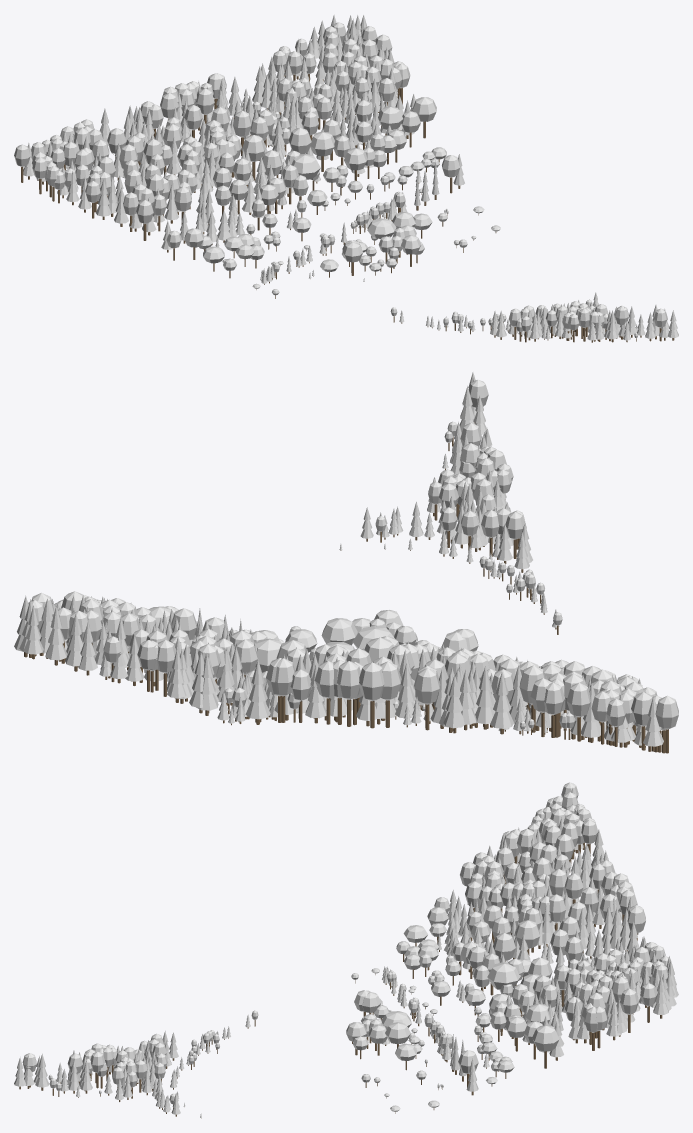
The model's file is stromy.glb.
3 renders of one model, top to bottom at view 1: azimuth 30°, elevation 25°; view 2: azimuth 150°, elevation 25°; view 3: azimuth 270°, elevation 25°, orthographic. The views are drawn at different scales.
Visible parts, largest first — view 1: Stromy_Listnate_08_01, Stromy_Ihlicnate_08_01; view 2: Stromy_Listnate_08_01, Stromy_Ihlicnate_08_01; view 3: Stromy_Listnate_08_01, Stromy_Ihlicnate_08_01.
Part boxes in pixels (<box>): Stromy_Listnate_08_01: <box>14,22,667,342</box>; Stromy_Ihlicnate_08_01: <box>23,14,678,342</box>; Stromy_Listnate_08_01: <box>28,379,678,753</box>; Stromy_Ihlicnate_08_01: <box>14,372,663,751</box>; Stromy_Listnate_08_01: <box>22,782,668,1113</box>; Stromy_Ihlicnate_08_01: <box>14,787,678,1118</box>.
Size of the model in its own units: 361 by 114 by 481.
